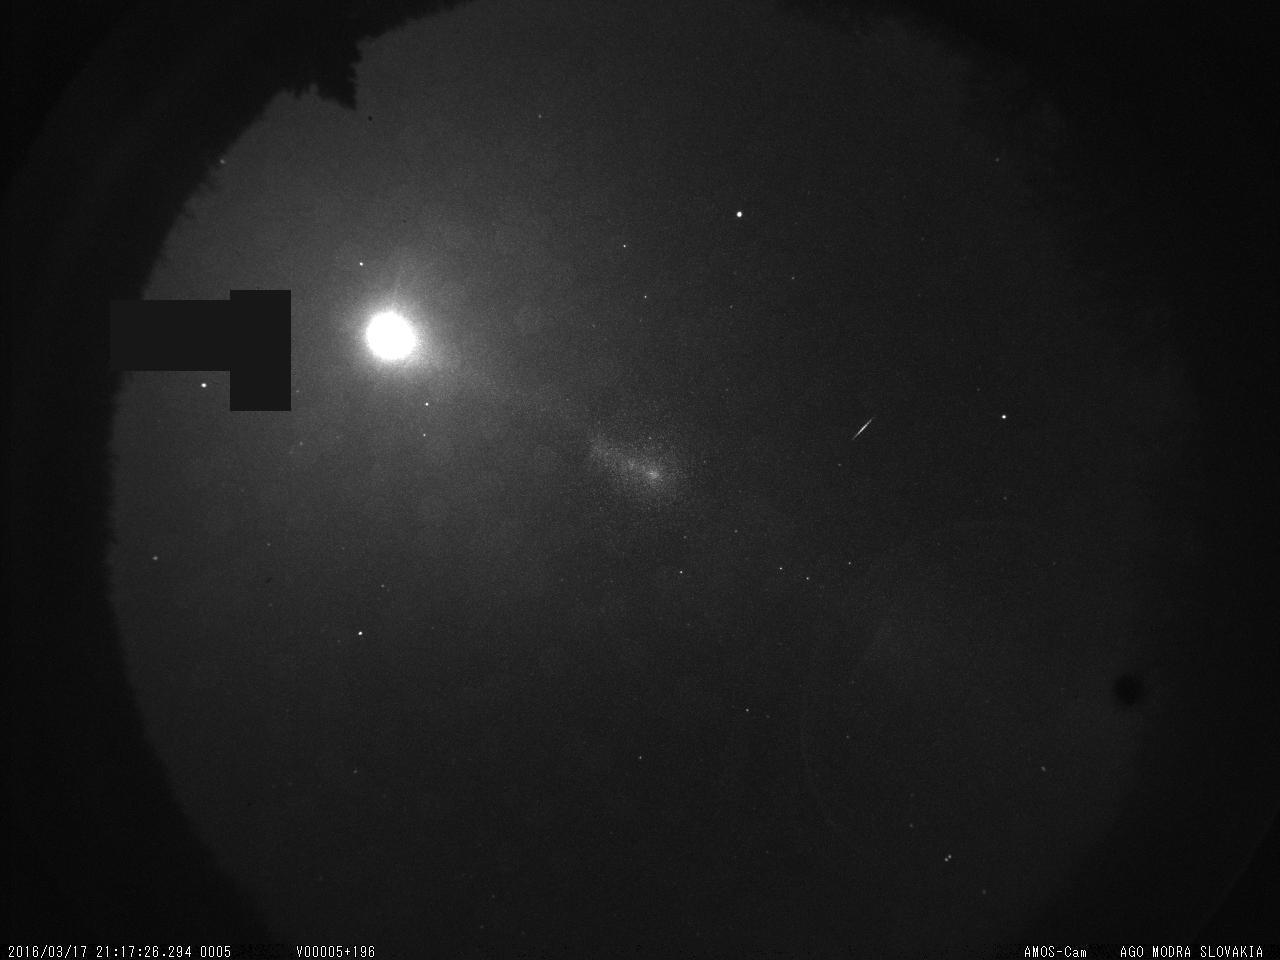Meteor: (848, 411, 880, 445)
